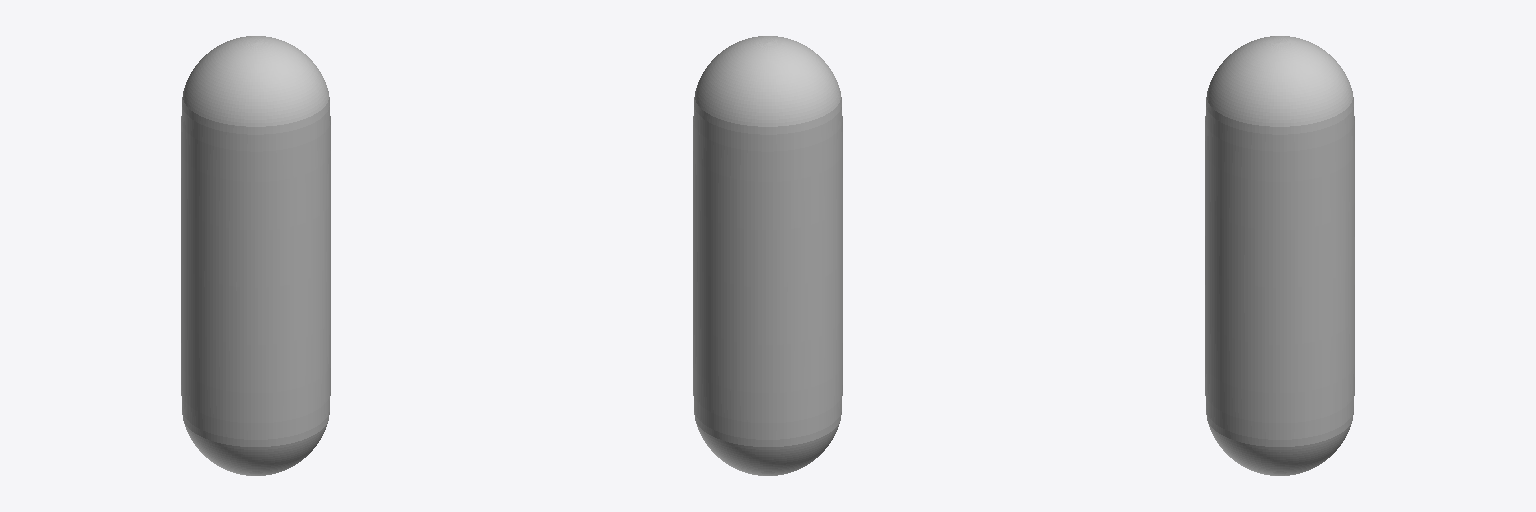
The model's file is android_right_arm.obj.
The picture shows the model from 3 angles: view 1: azimuth 30°, elevation 25°; view 2: azimuth 150°, elevation 25°; view 3: azimuth 270°, elevation 25°; orthographic projection.
Parts seen in each view (by area): view 1: ruka_prava_Sphere.005; view 2: ruka_prava_Sphere.005; view 3: ruka_prava_Sphere.005.
Boxes of the visible parts, <box> form: ruka_prava_Sphere.005: <box>181,36,330,475</box>; ruka_prava_Sphere.005: <box>693,36,842,475</box>; ruka_prava_Sphere.005: <box>1205,36,1354,475</box>.
Bounding box in the file's own units: 0.4416 × 1.38 × 0.4416.